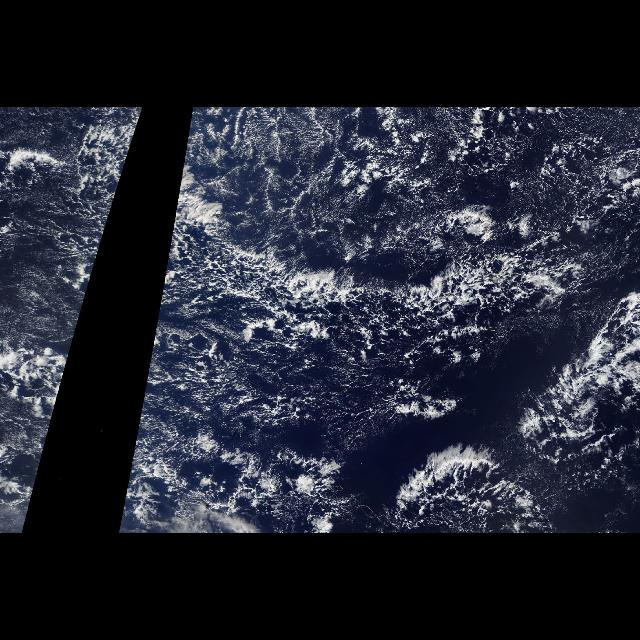Fish: (149, 111, 539, 361), (73, 111, 144, 351)
Gravel: (120, 113, 638, 531), (5, 113, 144, 531)
Sugar: (199, 111, 535, 272)
